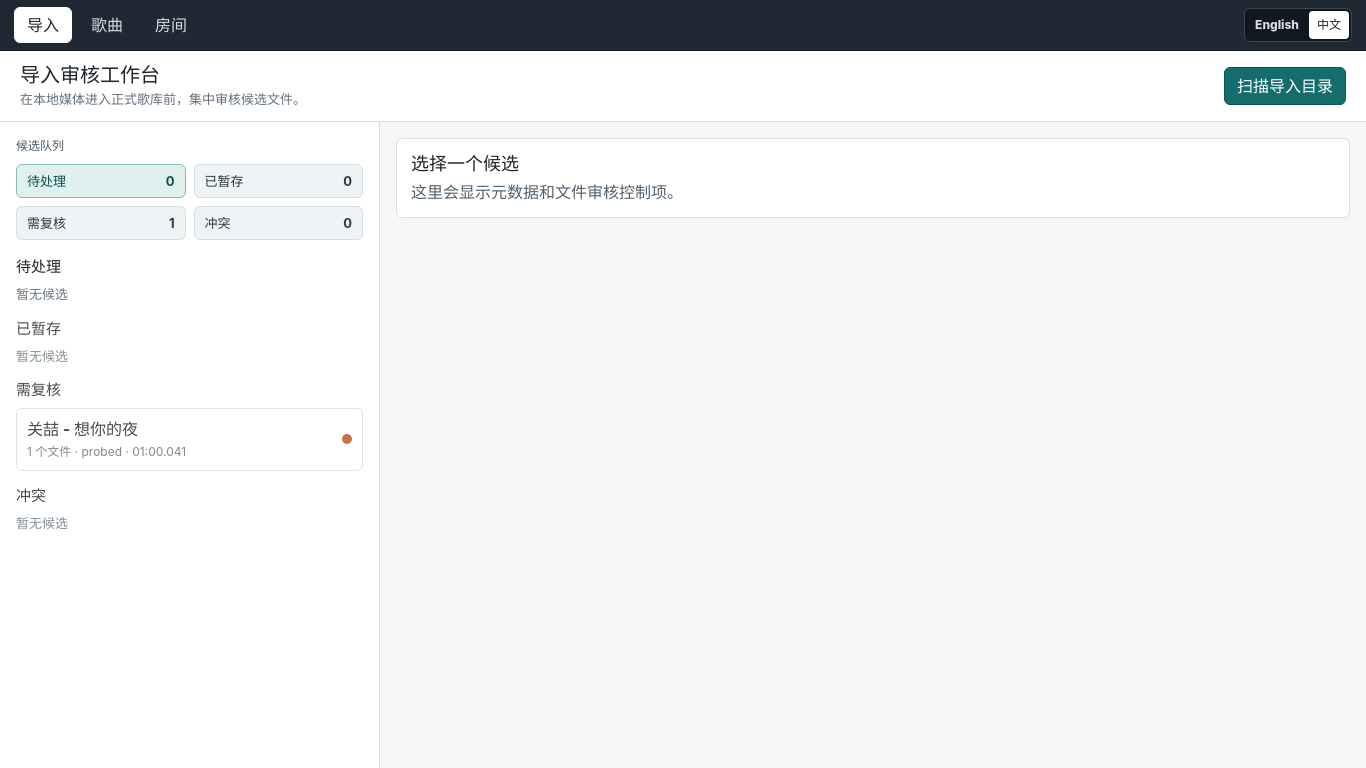
Scenario: real MV review UI › real MV review UI shows metadata, raw audio facts, provenance, conflicts, and role controls
This screenshot has width=1366, height=768.
Click the button "关喆 - 想你的夜 1 个文件 · probed · 01:00.041". click: (43, 429)
box: [16,408,363,471]
(page scrolled)
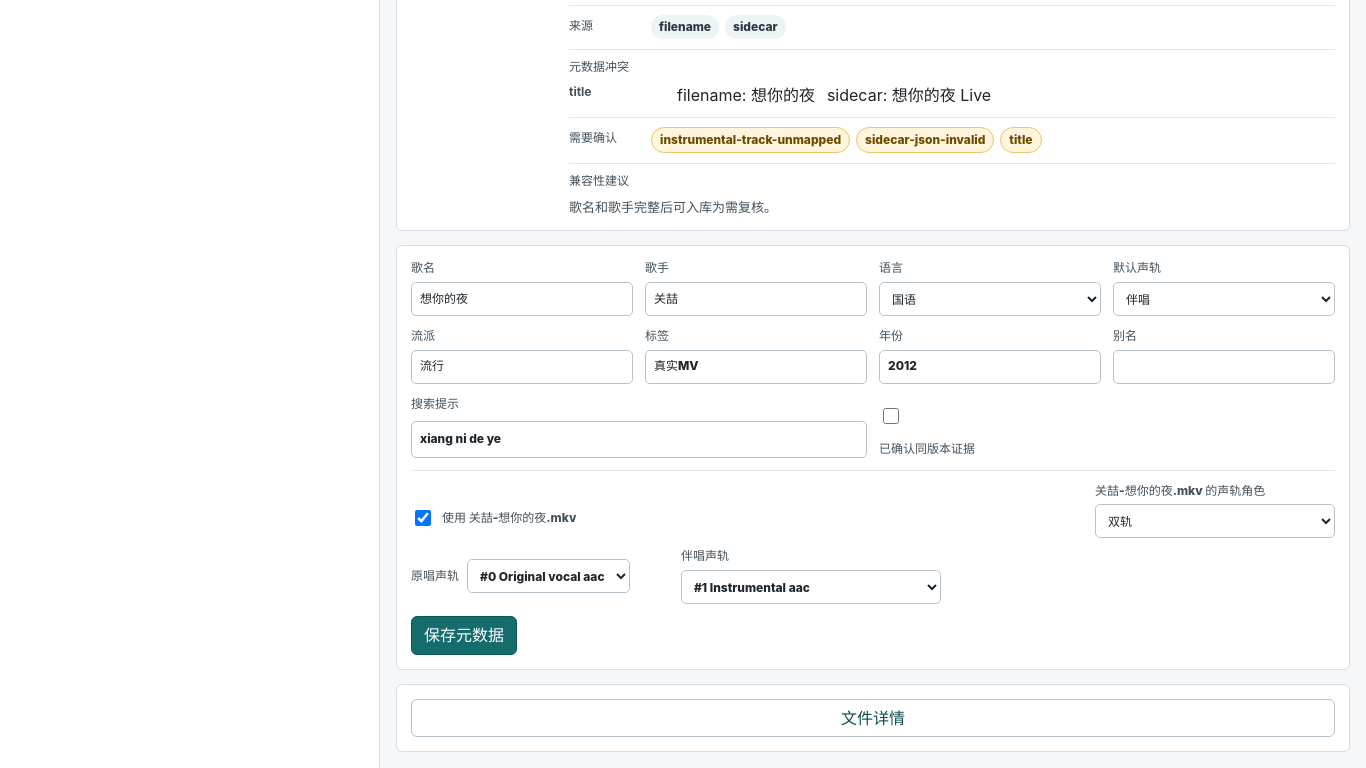
Check: the field labelled "歌名" is shown, box [411,282,633,316]
Check: the field labelled "歌手" is shown, box [645,282,867,316]
Check: the dropdown labelled "语言" is shown, box [879,282,1101,316]
